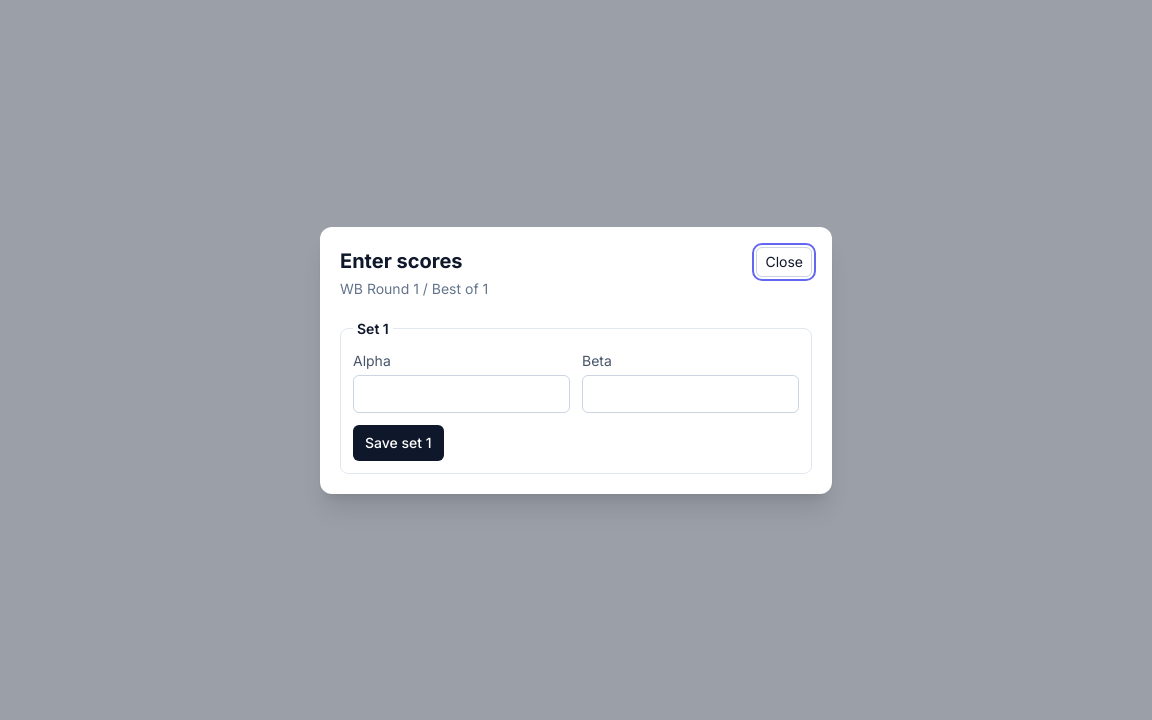
Test: ScoreEntry › shows score API failures as toast notifications
Type "11" into the number field labelled "Alpha".
click(462, 394); type("11")  # box [353,374,570,412]
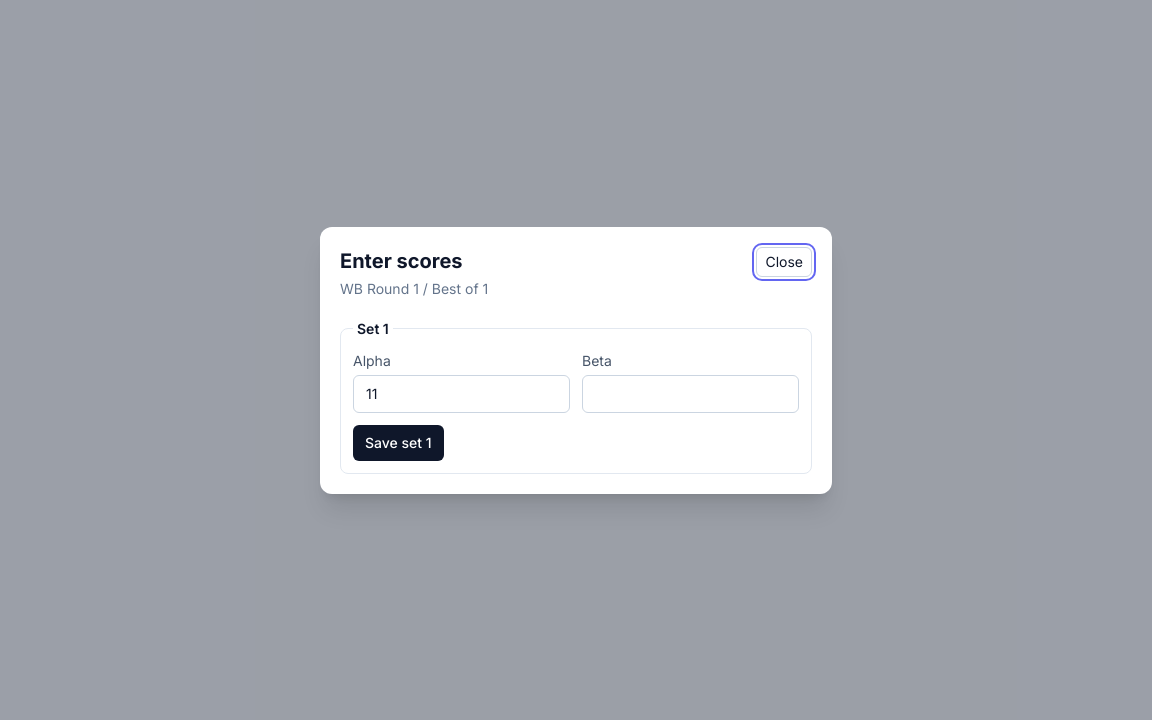
Type "9" into the number field labelled "Beta".
click(690, 394); type("9")  # box [582,374,799,412]
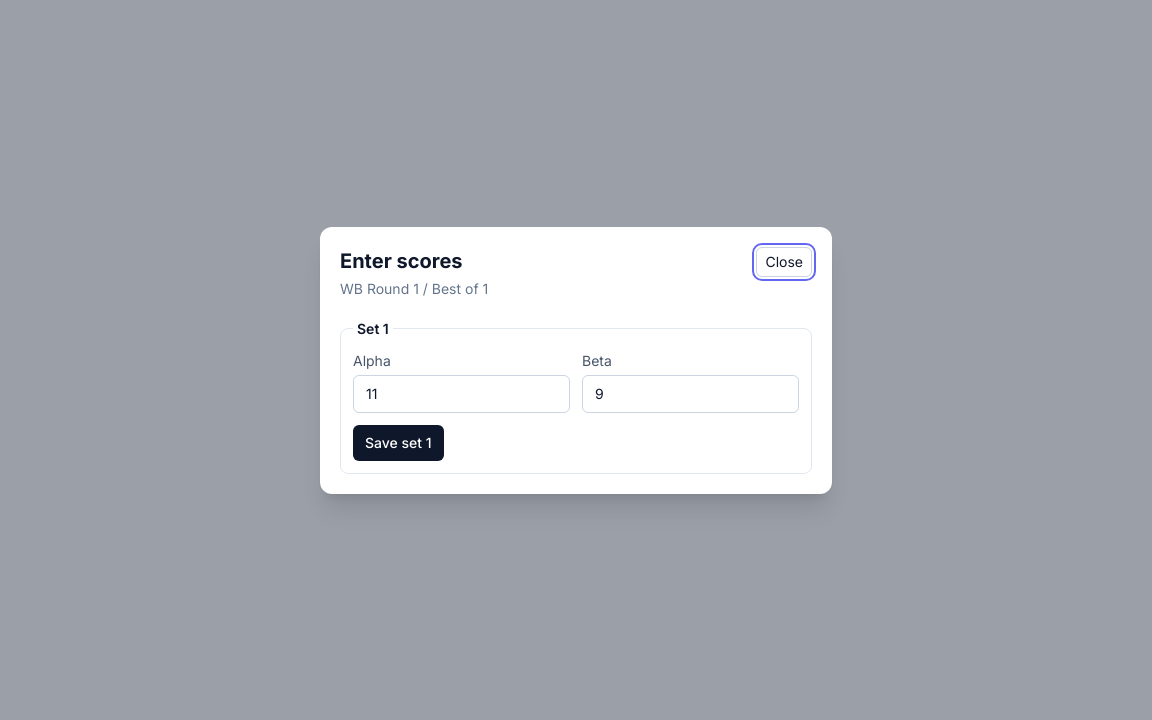
Click the button "Save set 1".
click(398, 442)  # box [353,424,444,460]
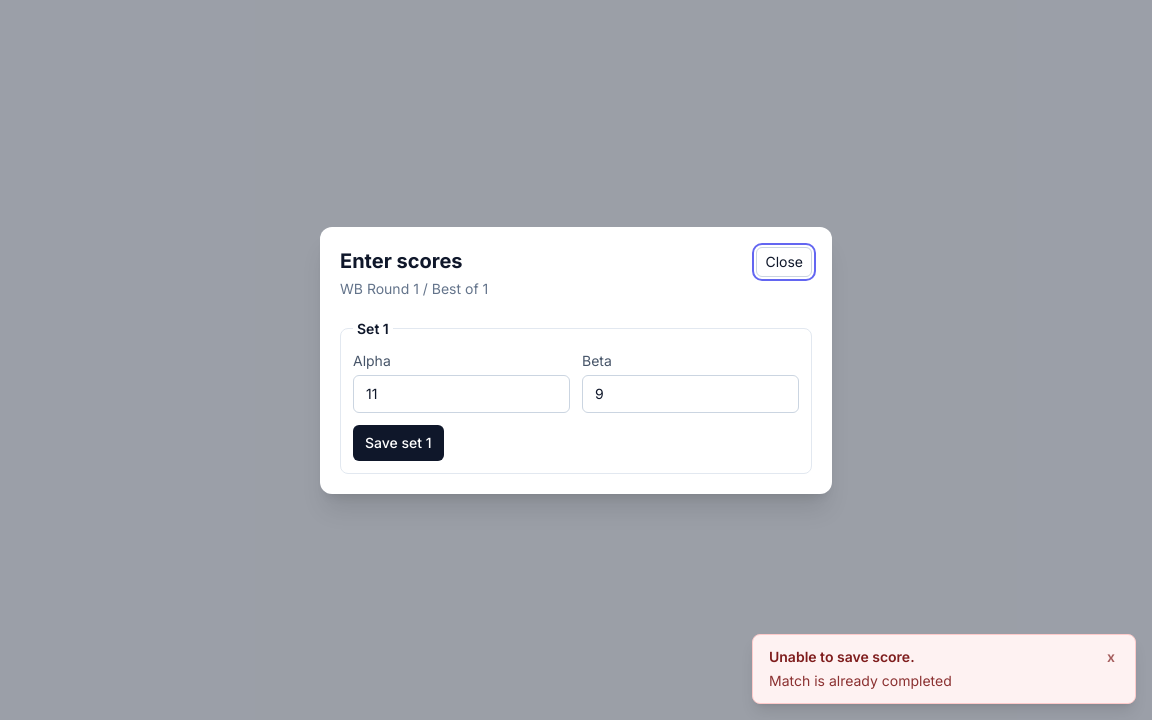
Now the text "Match is already completed" is shown, box [769,671,952,691]
